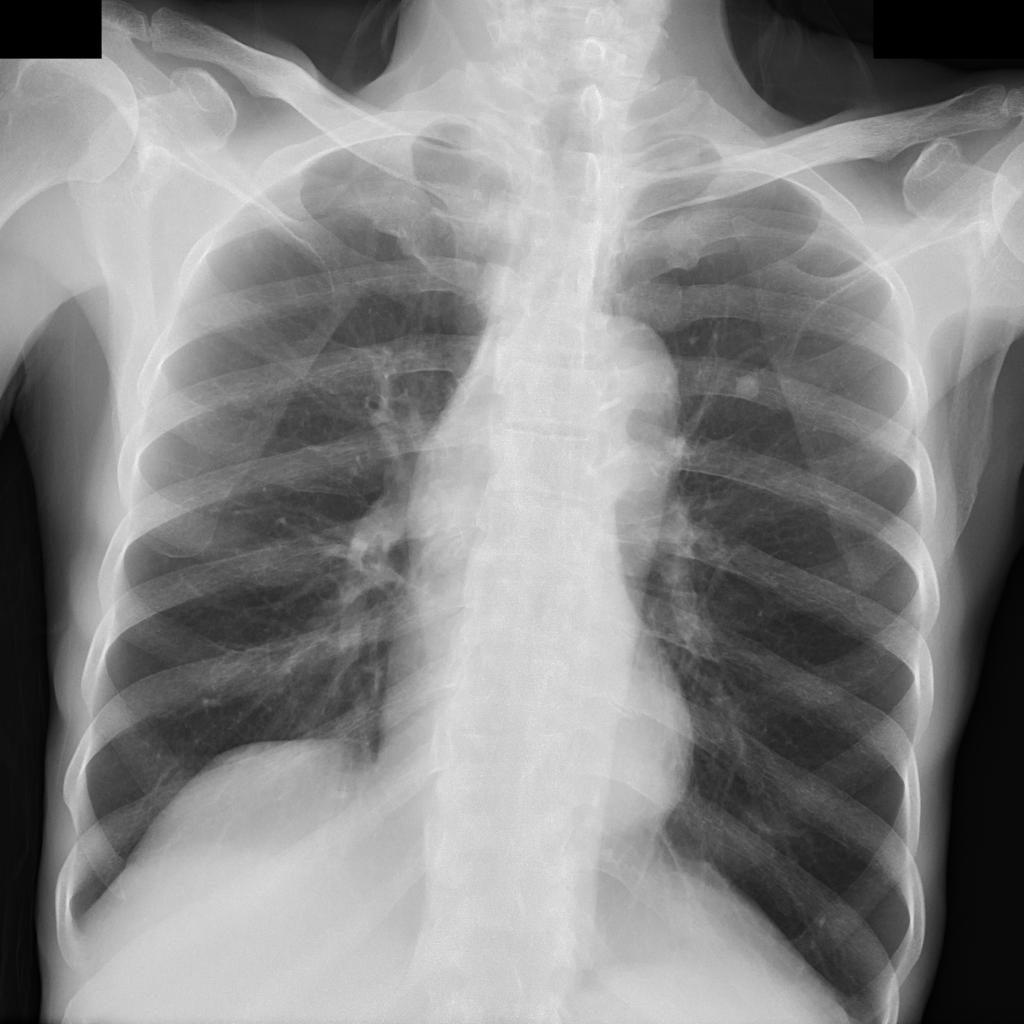Nodule: (737, 375, 761, 401)
